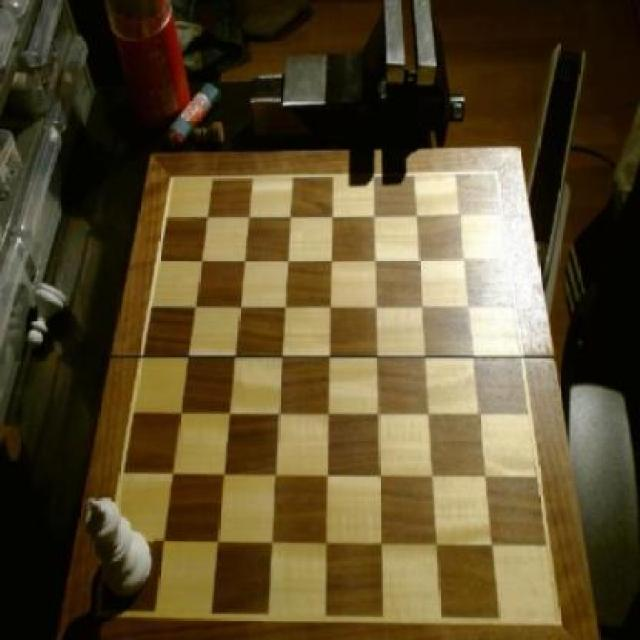white-bishop: (86, 499, 156, 603)
